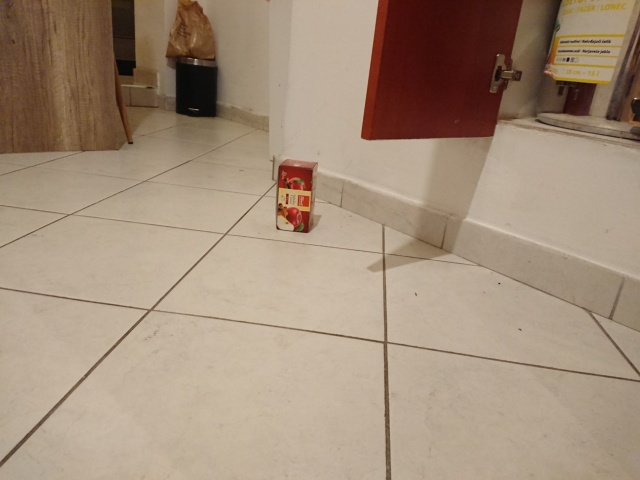Franck Apple Cinnamon Tea 60g: (272, 155, 320, 235)
